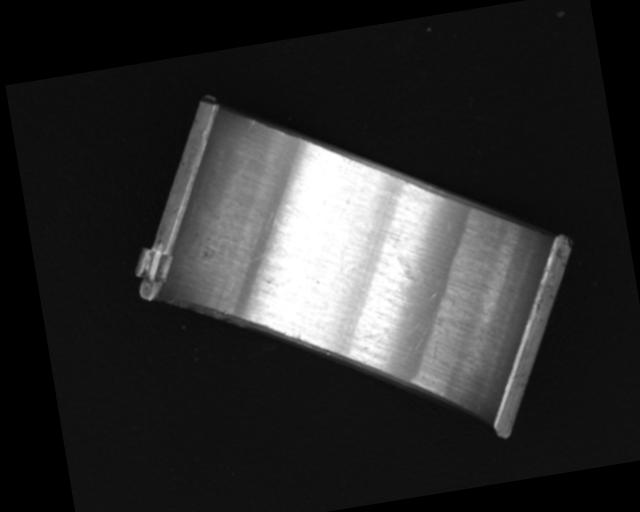nick: (243, 118, 256, 134)
